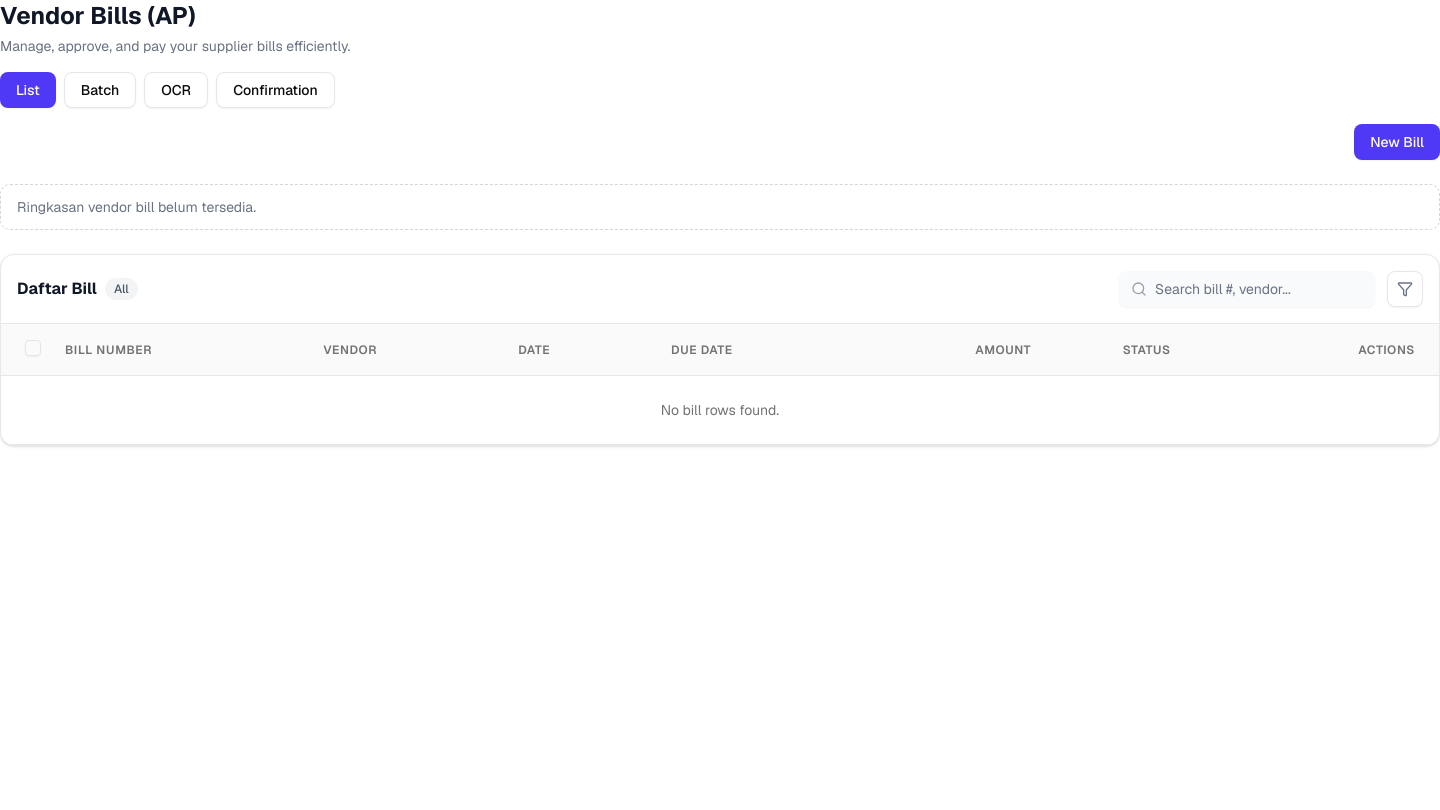
Test case: vendor-bills-ap advanced features › navigates OCR flow back to list when saving progress
Click the button "OCR".
click(176, 90)  # box [144,72,208,108]
(page scrolled)
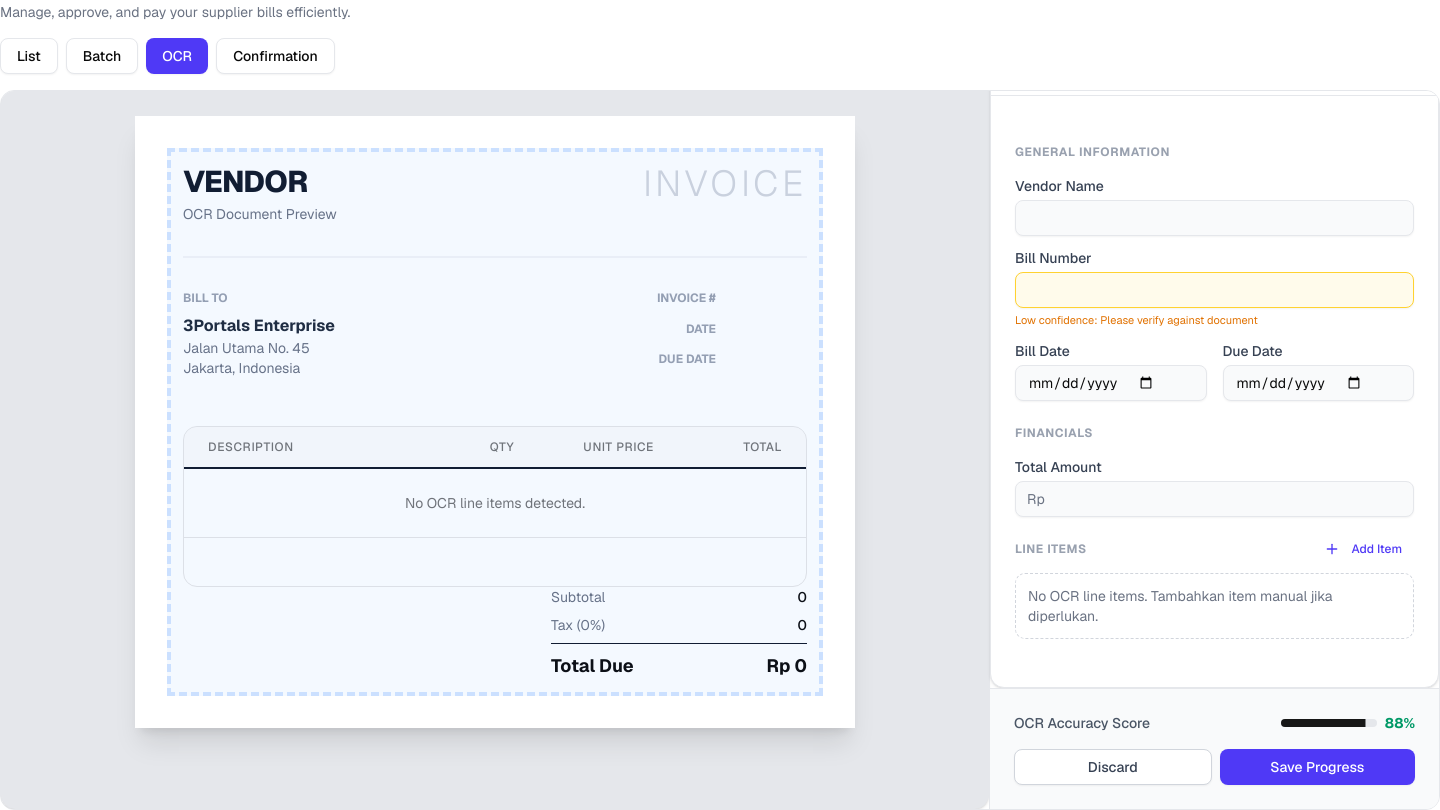
Click the button "Save Progress".
click(1317, 766)  # box [1220,748,1415,784]
(page scrolled)
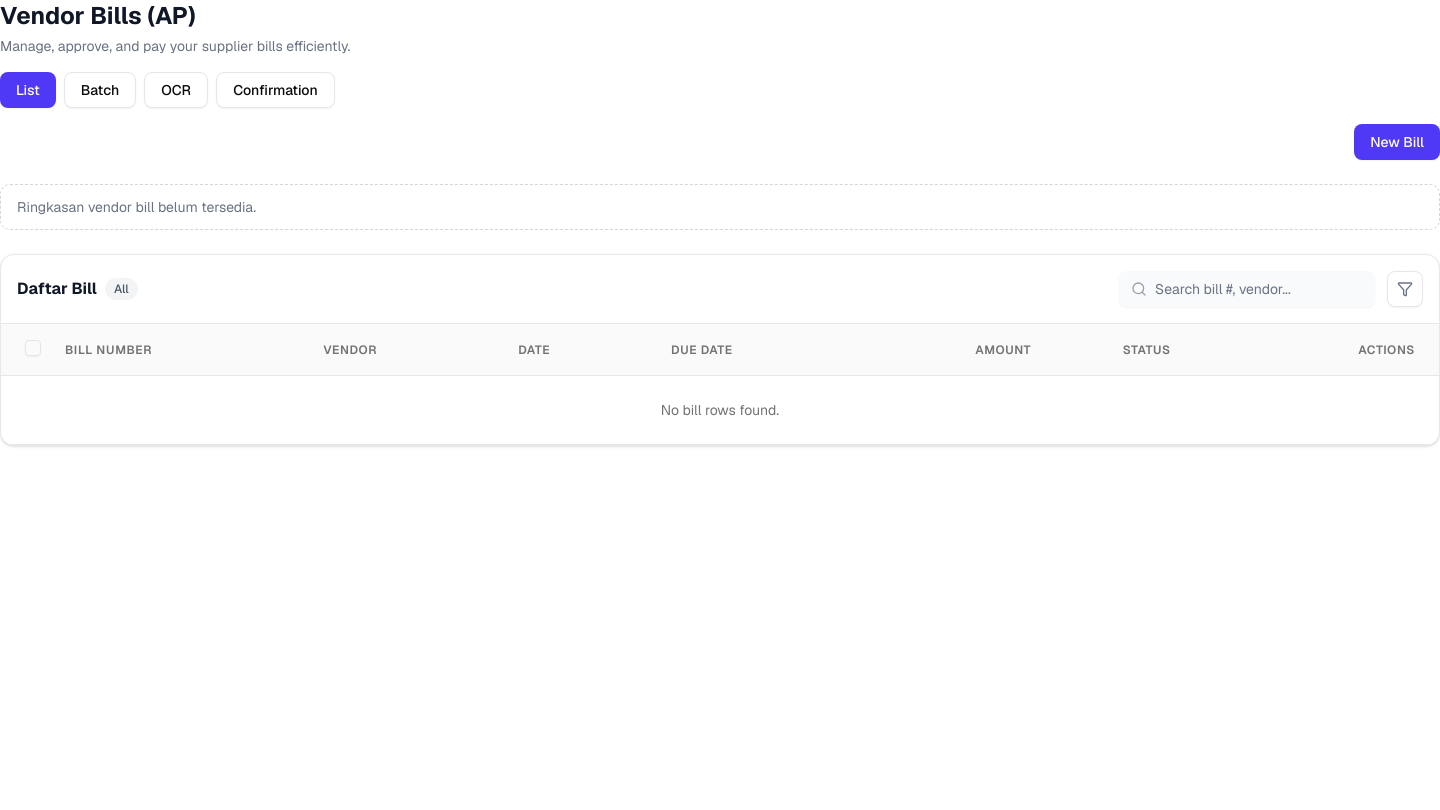
Expected: the heading "Daftar Bill" is shown, [17,277,97,301]
